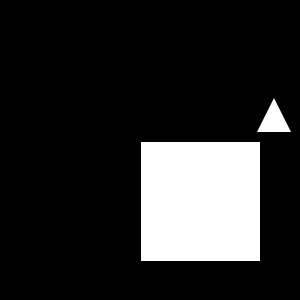circle: (141, 142, 260, 261)
triangle: (257, 98, 291, 132)
